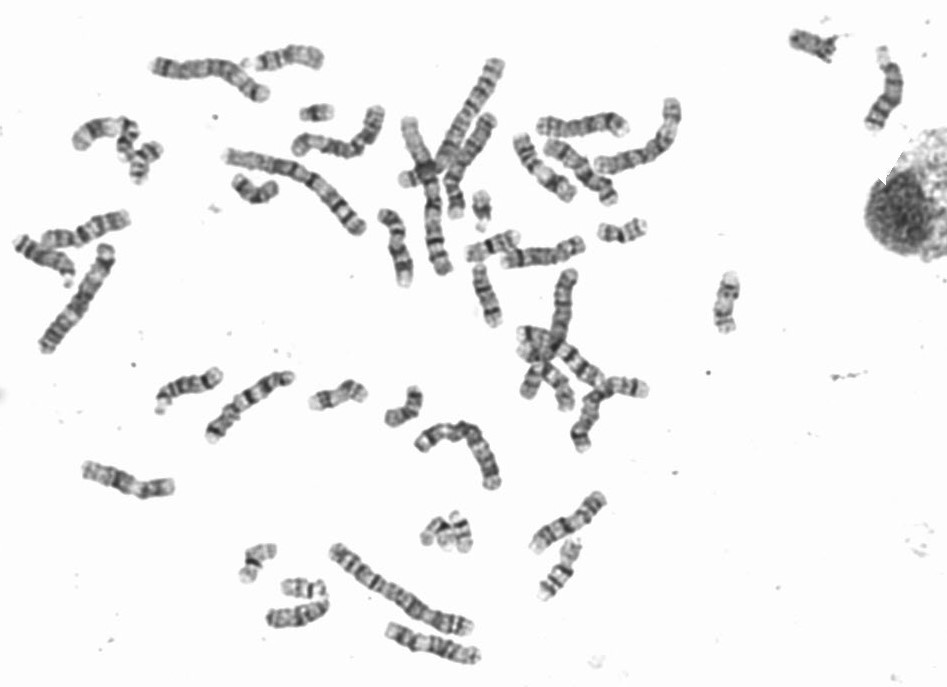chromosomes: (393, 53, 511, 193), (331, 536, 482, 639), (223, 144, 371, 243), (33, 242, 127, 366), (398, 111, 455, 280), (197, 358, 296, 452), (597, 91, 687, 179), (414, 414, 509, 496), (147, 52, 283, 106), (571, 372, 655, 458), (439, 112, 500, 223), (516, 269, 586, 363), (289, 100, 390, 161), (519, 323, 610, 390), (526, 488, 613, 557), (43, 206, 149, 257), (545, 139, 622, 209), (147, 358, 230, 422), (509, 131, 581, 204), (79, 459, 179, 509), (860, 38, 906, 146), (8, 233, 83, 295), (386, 625, 487, 666), (502, 231, 588, 276), (377, 205, 419, 291), (529, 108, 634, 142), (518, 359, 582, 414), (538, 534, 588, 602), (241, 40, 330, 78), (470, 256, 507, 331), (261, 594, 338, 628), (462, 224, 526, 264), (230, 541, 284, 588), (711, 266, 746, 336), (303, 379, 371, 414), (378, 383, 426, 431), (235, 171, 286, 210), (130, 137, 165, 191), (597, 213, 656, 244), (67, 118, 119, 153), (279, 573, 341, 602), (417, 514, 456, 556), (447, 506, 474, 559), (471, 186, 497, 239), (117, 111, 137, 163), (296, 101, 339, 124)
